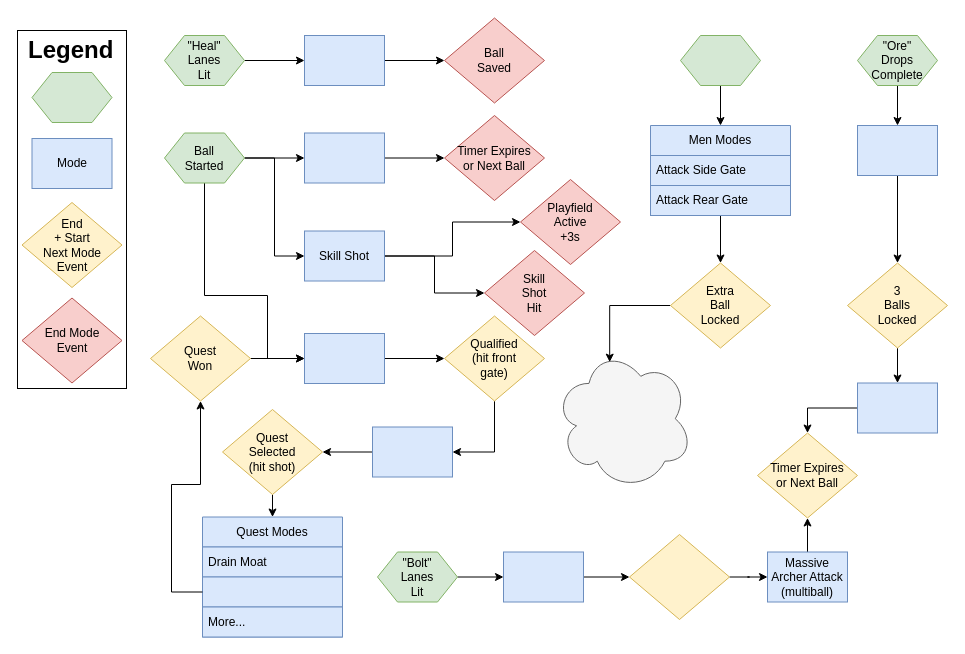
Image size: 965x654. Some labels were removed from this diagram. Here are the shapes that lost their labels. From the top down, the centre of each, then its label:
the point at 344,60: Kicker Ball Save
the point at 720,60: "Mob" Drops Complete
the point at 71,97: Mode Start Event
the point at 344,157: Quick Death Ball Save
the point at 897,150: Load Catapult
the point at 344,358: Qualify For Select Quest
the point at 623,418: Ball Ejects On Last Ball Drain or if Needed for Multiball
the point at 897,407: Catapult Attack (multiball)
the point at 412,451: Select Quest
the point at 272,591: Climb Walls
the point at 543,576: Archer Attack
the point at 679,577: Won (hit pops # times)
